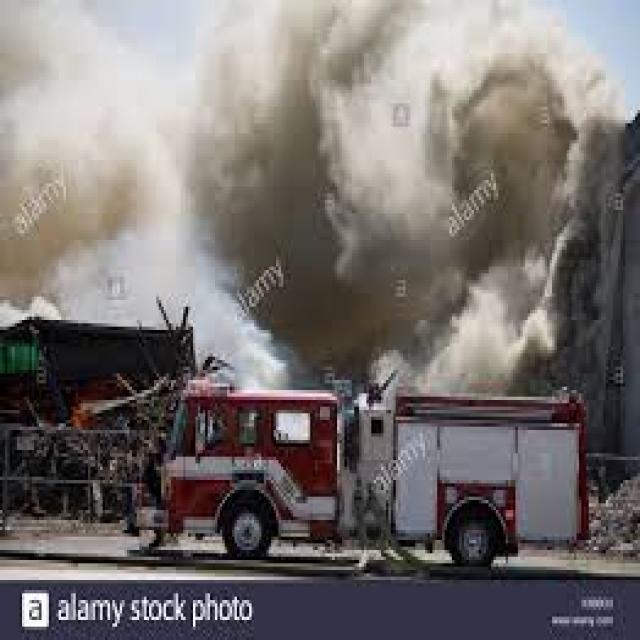Smoke: (2, 3, 604, 387)
